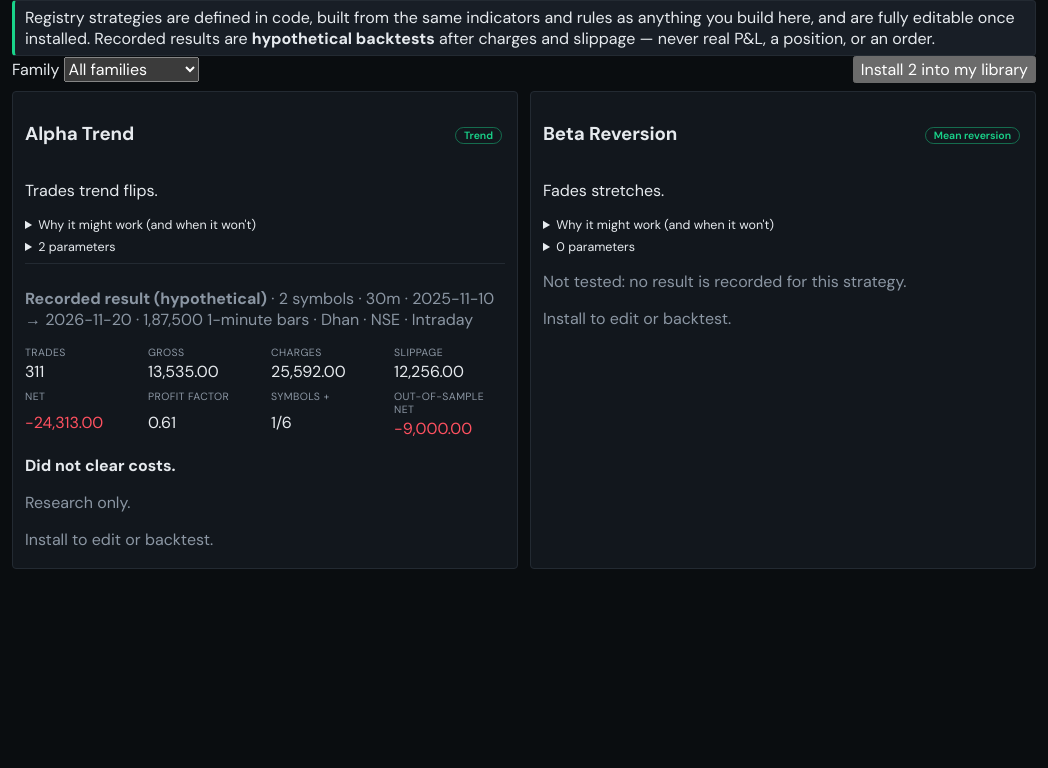
Test: StrategyRegistry › lists strategies with family, rationale, parameters and the hypothetical label
The width and height of the screenshot is (1048, 768).
Expected: the text "Trend" is shown, [455, 127, 502, 144]
Click the heading "2 parameters" at (77, 247), box [38, 239, 116, 255]
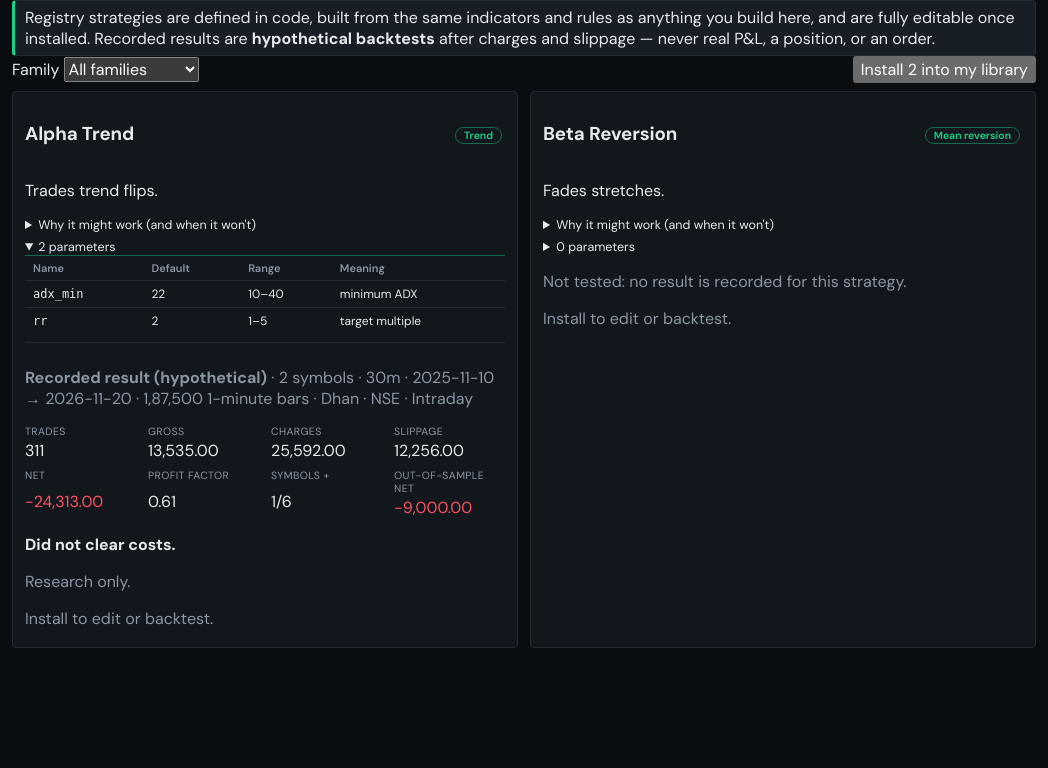
Expected: the text "hypothetical backtests" is shown, [252, 28, 435, 49]
Result: the text "adx_min" is shown at [33, 287, 84, 301]
Result: the text "10–40" is shown at [240, 281, 332, 308]
